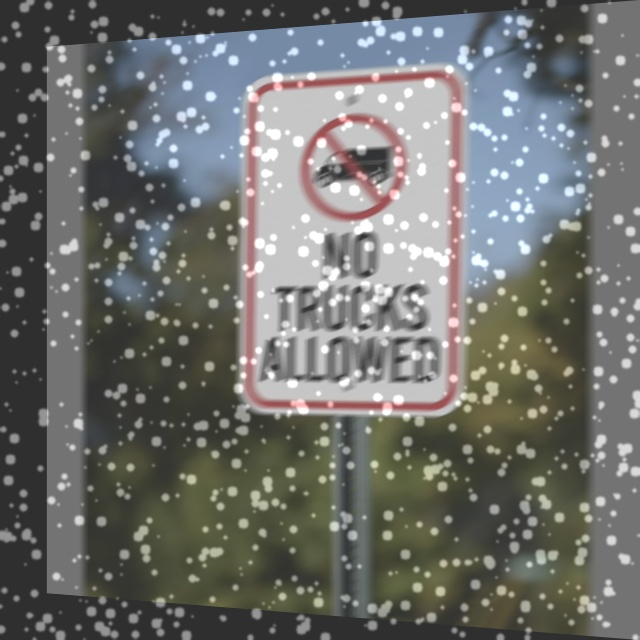Truck_Prohibited: (283, 96, 441, 229)
